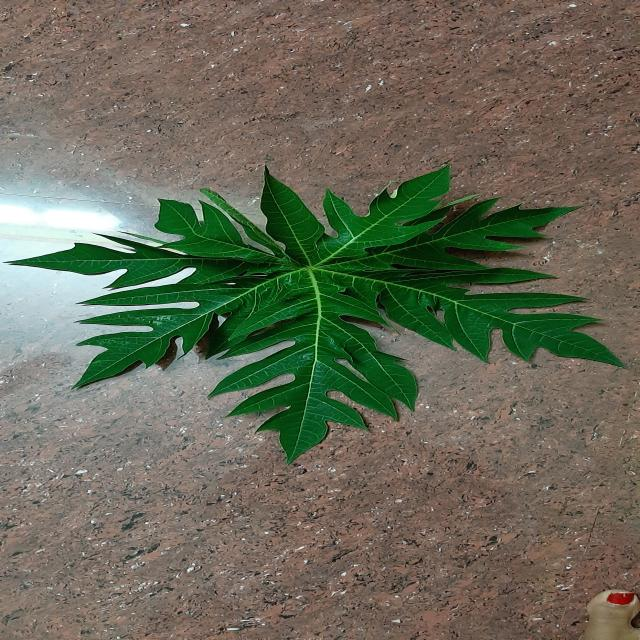papaya: (11, 168, 623, 462)
